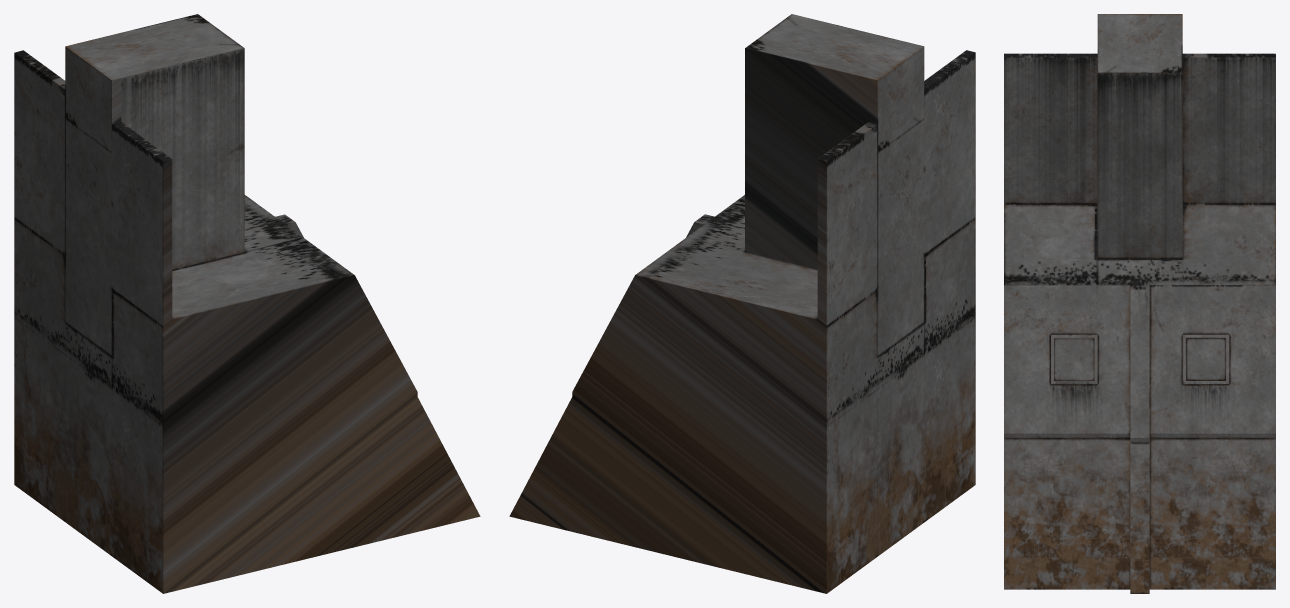
Rendered from left-wall.glb.
The picture shows the model from 3 angles, left to right: view 1: azimuth 30°, elevation 25°; view 2: azimuth 150°, elevation 25°; view 3: azimuth 270°, elevation 25°; orthographic projection. The views are drawn at different scales.
Parts seen in each view (by area): view 1: Cube.002_Cube.003; view 2: Cube.002_Cube.003; view 3: Cube.002_Cube.003.
Boxes of the visible parts, bbox=[...] form: Cube.002_Cube.003: bbox=[14, 14, 480, 593]; Cube.002_Cube.003: bbox=[509, 14, 975, 593]; Cube.002_Cube.003: bbox=[1004, 14, 1275, 593].
Bounding box in the file's own units: 10.15 × 14.11 × 8.
Materials: 1 (1 with a texture image).
